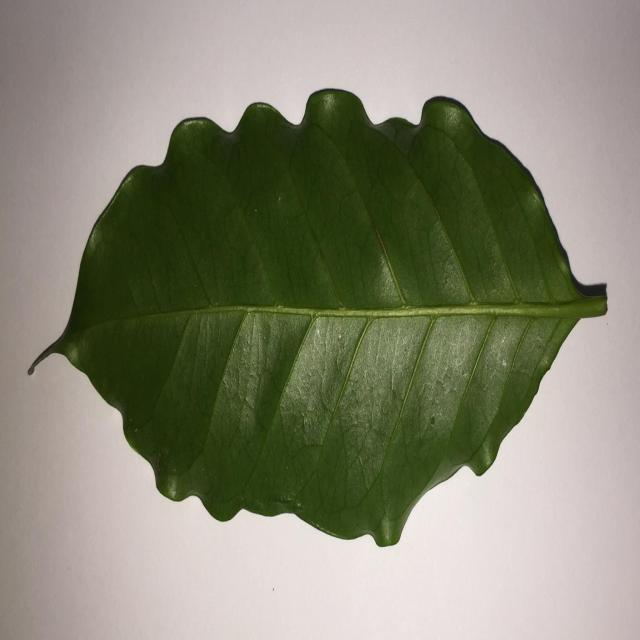Sanas: (29, 89, 608, 551)
